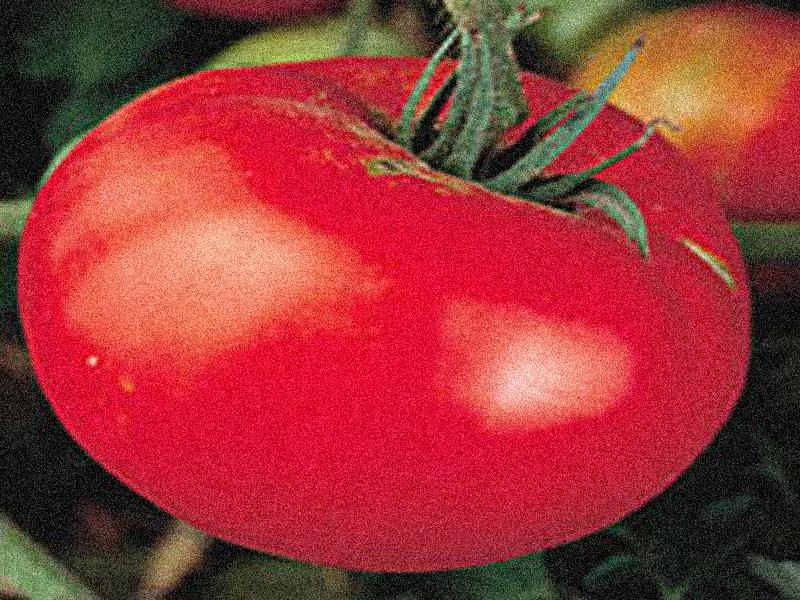Tomato: (22, 58, 744, 573)
